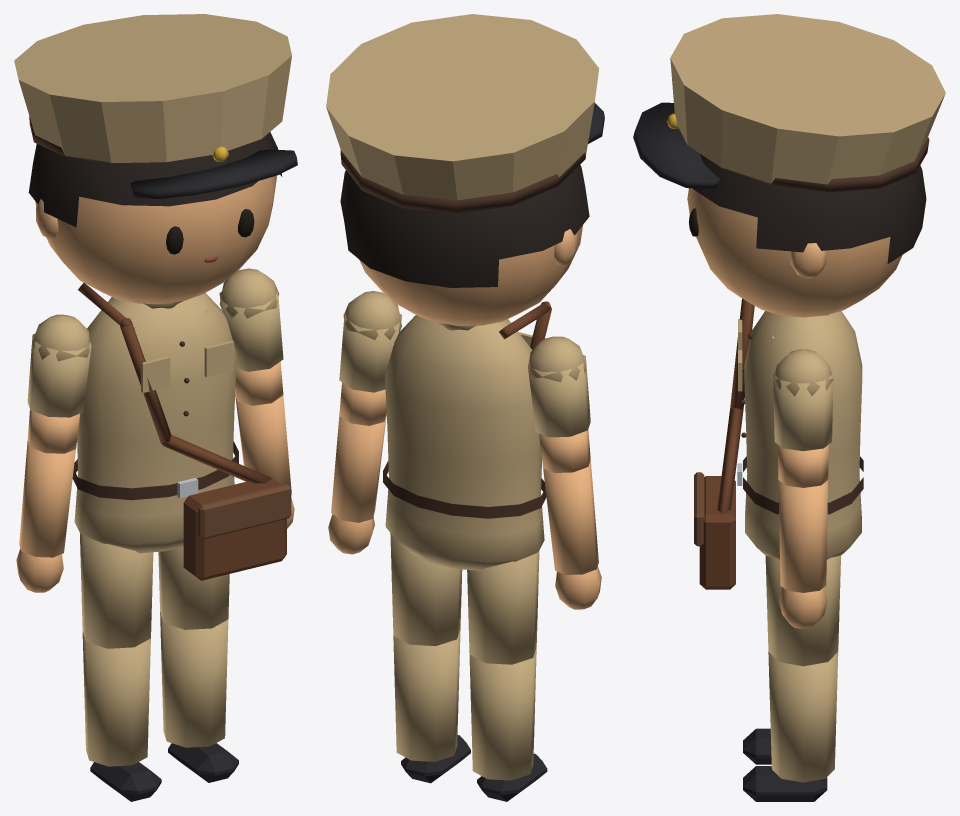
Rendered from era2_postman.glb.
3 renders of one model, left to right at view 1: azimuth 30°, elevation 25°; view 2: azimuth 150°, elevation 25°; view 3: azimuth 270°, elevation 25°, orthographic.
Parts seen in each view (by area): view 1: head, body, shin_L, shin_R, arm_R, leg_R, arm_L, forearm_R, leg_L, forearm_L; view 2: head, body, shin_R, shin_L, arm_R, leg_R, arm_L, forearm_R, leg_L, forearm_L; view 3: head, body, shin_L, arm_L, forearm_L, leg_L, shin_R.
Part boxes in pixels (x1,y1,x2,y2): head: [14, 14, 297, 303]; body: [72, 282, 291, 580]; shin_L: [160, 612, 238, 782]; shin_R: [82, 631, 161, 801]; arm_R: [27, 314, 91, 453]; leg_R: [80, 533, 153, 648]; arm_L: [219, 268, 283, 405]; forearm_R: [16, 441, 75, 592]; leg_L: [158, 547, 229, 629]; forearm_L: [235, 395, 294, 528]; head: [326, 14, 604, 325]; body: [383, 301, 551, 570]; shin_R: [469, 647, 547, 801]; shin_L: [393, 628, 470, 783]; arm_R: [528, 336, 590, 472]; leg_R: [467, 551, 539, 664]; arm_L: [339, 291, 401, 425]; forearm_R: [543, 460, 601, 609]; leg_L: [390, 533, 462, 645]; forearm_L: [328, 415, 386, 554]; head: [633, 14, 945, 317]; body: [694, 298, 863, 589]; shin_L: [743, 652, 838, 801]; arm_L: [773, 349, 833, 487]; forearm_L: [778, 480, 828, 628]; leg_L: [765, 555, 840, 666]; shin_R: [743, 728, 771, 764].
Size of the model in its own units: 0.5995 by 1.53 by 0.6022.
